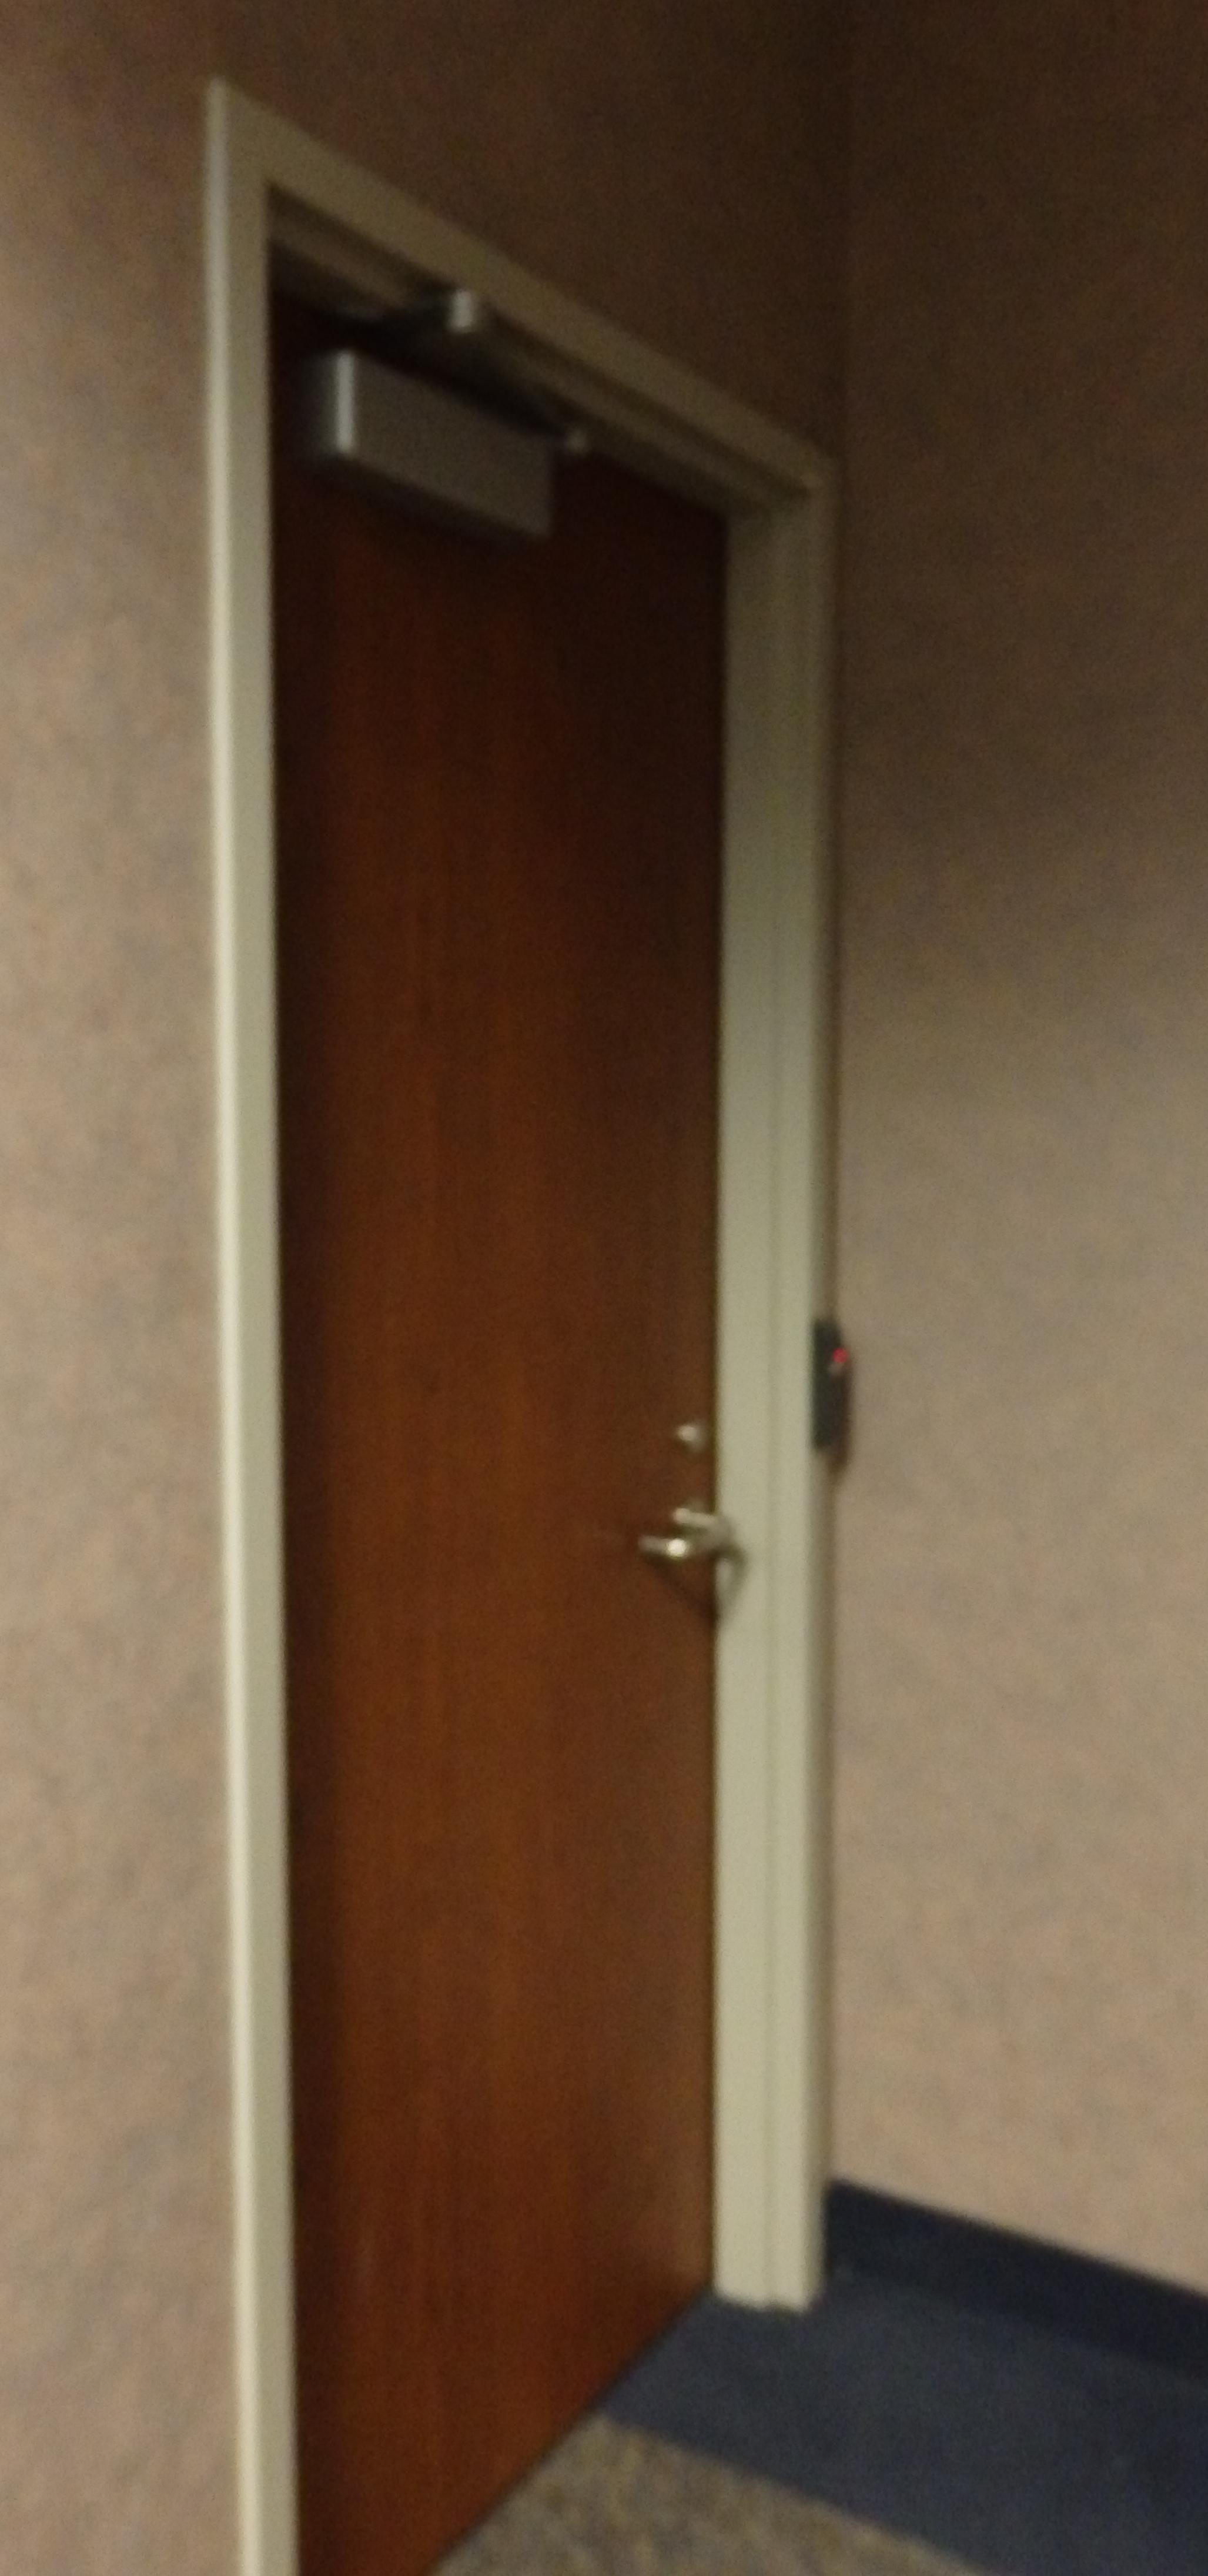door: (208, 126, 803, 2535)
